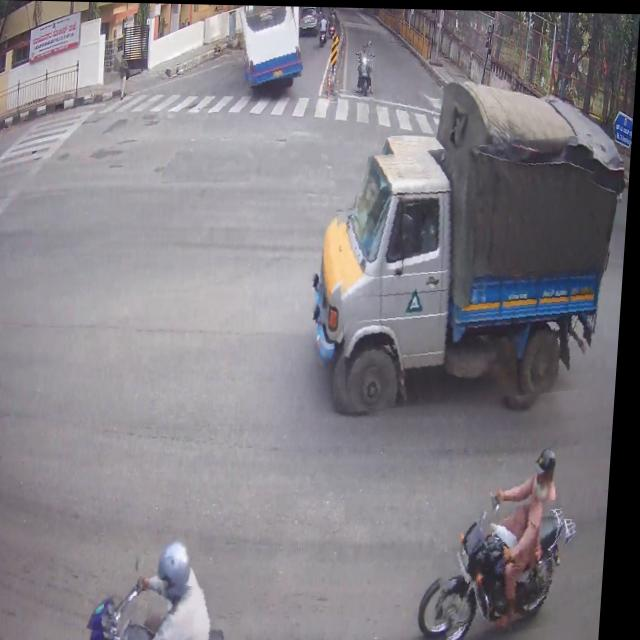Bus: (238, 4, 304, 83)
Car: (306, 7, 318, 29)
Truck: (330, 135, 617, 408)
Two-wheelers: (438, 499, 587, 637), (95, 573, 254, 640), (355, 44, 377, 102), (324, 13, 341, 43)
